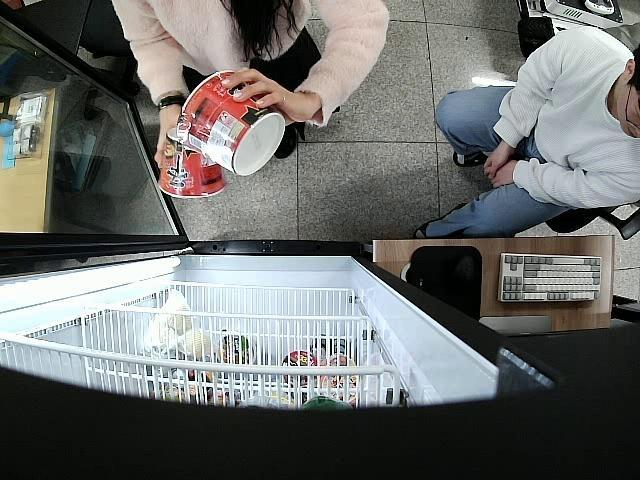01_ShinRamen_L: (178, 72, 286, 175), (158, 132, 226, 198)
